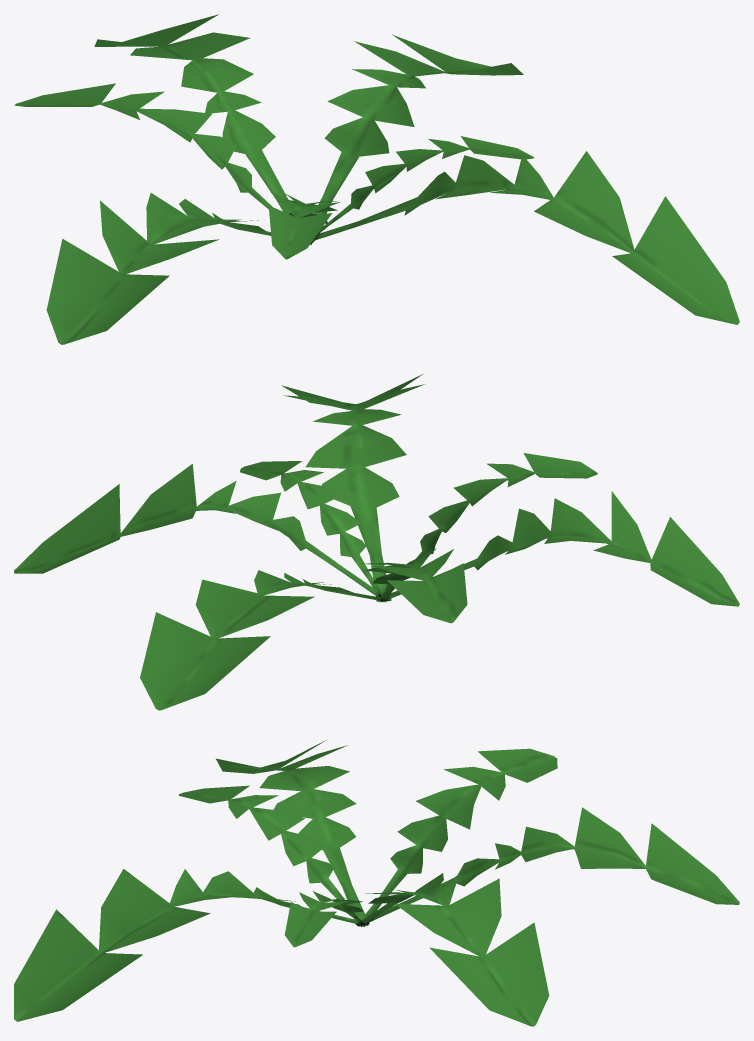
Rendered from dandelion_dead.obj.
3 renders of one model, top to bottom at view 1: azimuth 30°, elevation 25°; view 2: azimuth 150°, elevation 25°; view 3: azimuth 270°, elevation 25°, orthographic. The views are drawn at different scales.
Visible parts, largest first — view 1: Plane.002; view 2: Plane.002; view 3: Plane.002.
Boxes of the visible parts, box(x1,y1,x2,y2) form: Plane.002: box(14, 14, 739, 344); Plane.002: box(14, 374, 739, 710); Plane.002: box(14, 740, 739, 1026).
Bounding box in the file's own units: 0.2757 × 0.0542 × 0.3235.
1 material, 1 textured.
